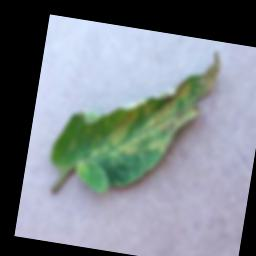Leaf_Mold: (43, 26, 224, 207)
